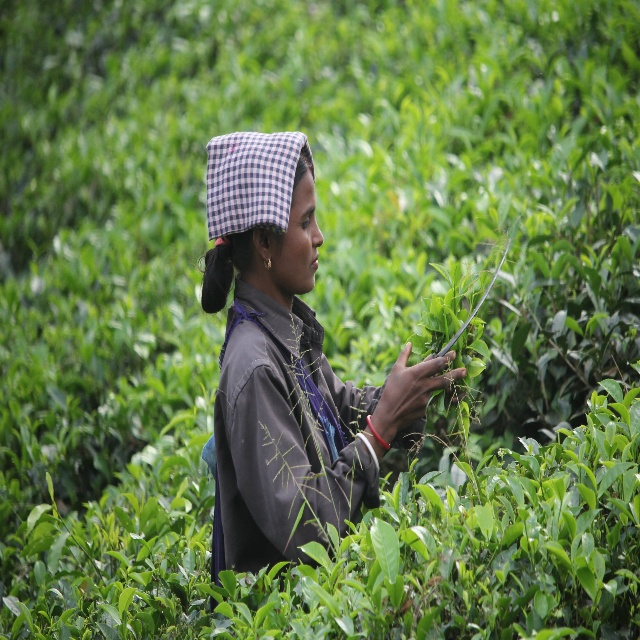Sin_guantes: (388, 342, 468, 441)
